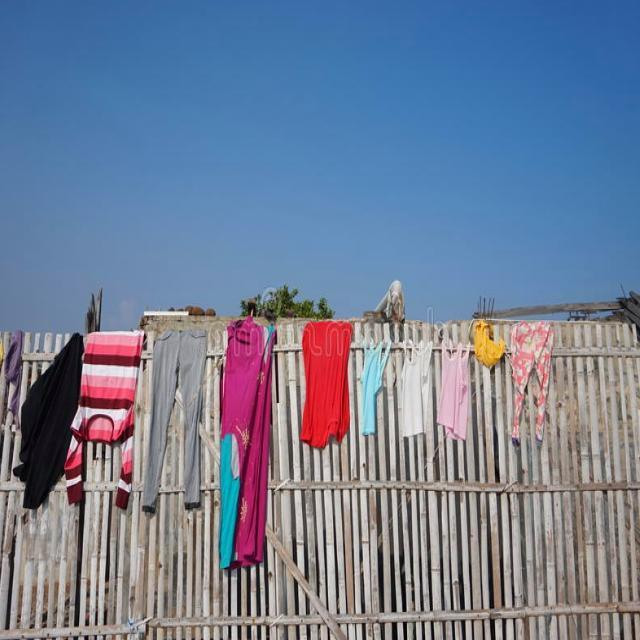clothes: (150, 342, 361, 450)
